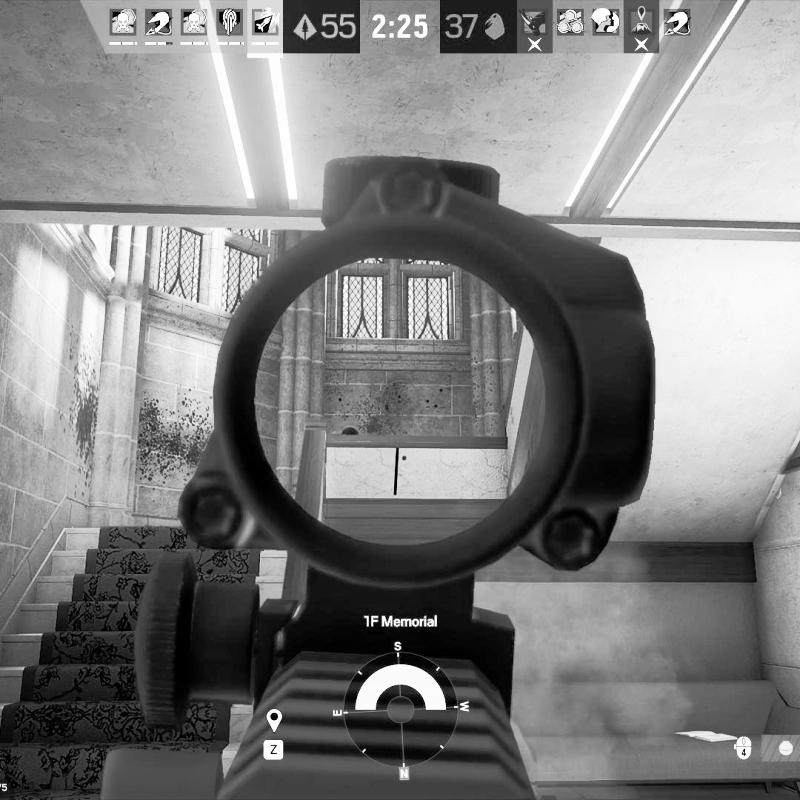Head: (341, 425, 360, 437)
